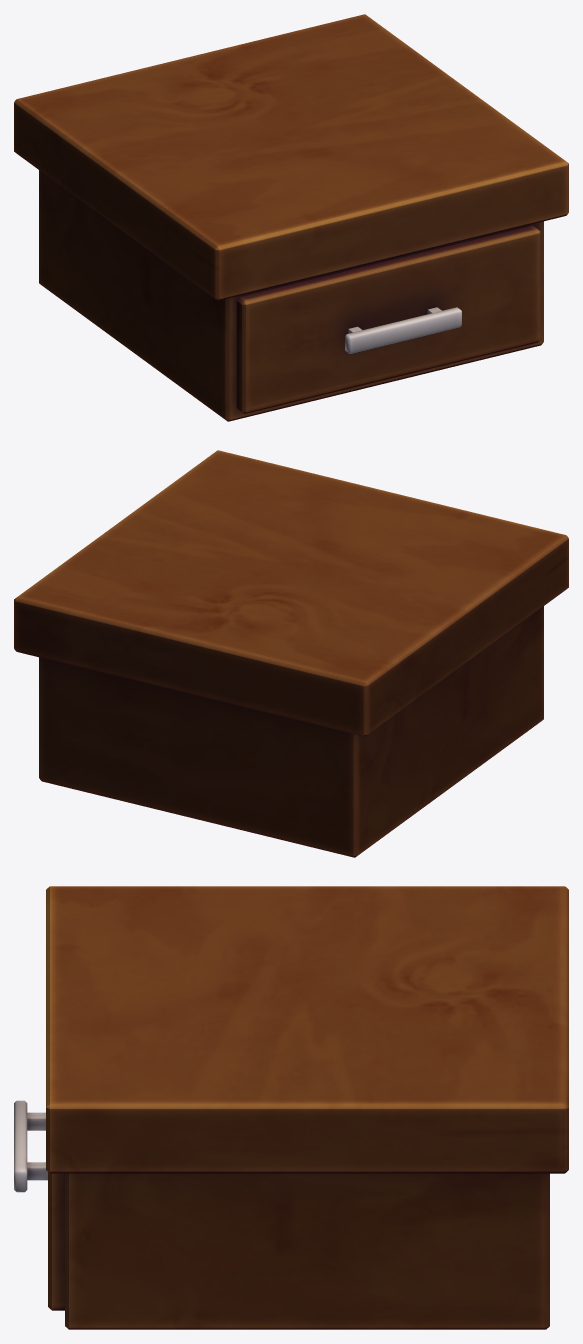
Rendered from Cabin.fbx.
The picture shows the model from 3 angles, top to bottom: view 1: azimuth 30°, elevation 25°; view 2: azimuth 150°, elevation 25°; view 3: azimuth 270°, elevation 25°; orthographic projection. The views are drawn at different scales.
Visible parts, largest first — view 1: Kitchen_Cabin-2; view 2: Kitchen_Cabin-2; view 3: Kitchen_Cabin-2.
Boxes of the visible parts, <box> form: Kitchen_Cabin-2: <box>14,14,568,421</box>; Kitchen_Cabin-2: <box>14,450,568,857</box>; Kitchen_Cabin-2: <box>14,886,568,1329</box>.
Bounding box in the file's own units: 200 × 100 × 212.
